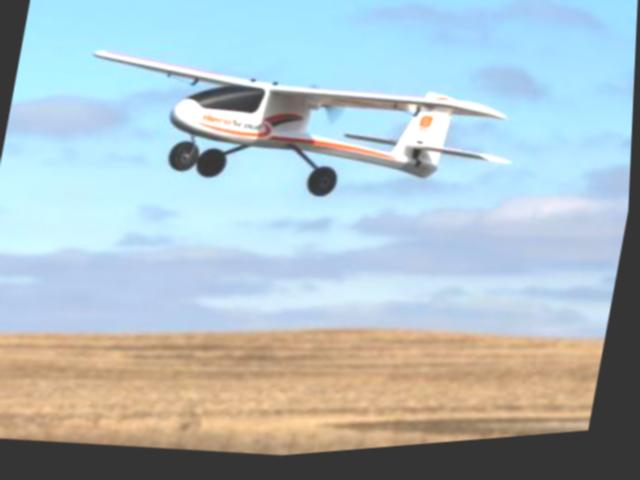uav: (69, 18, 530, 220)
